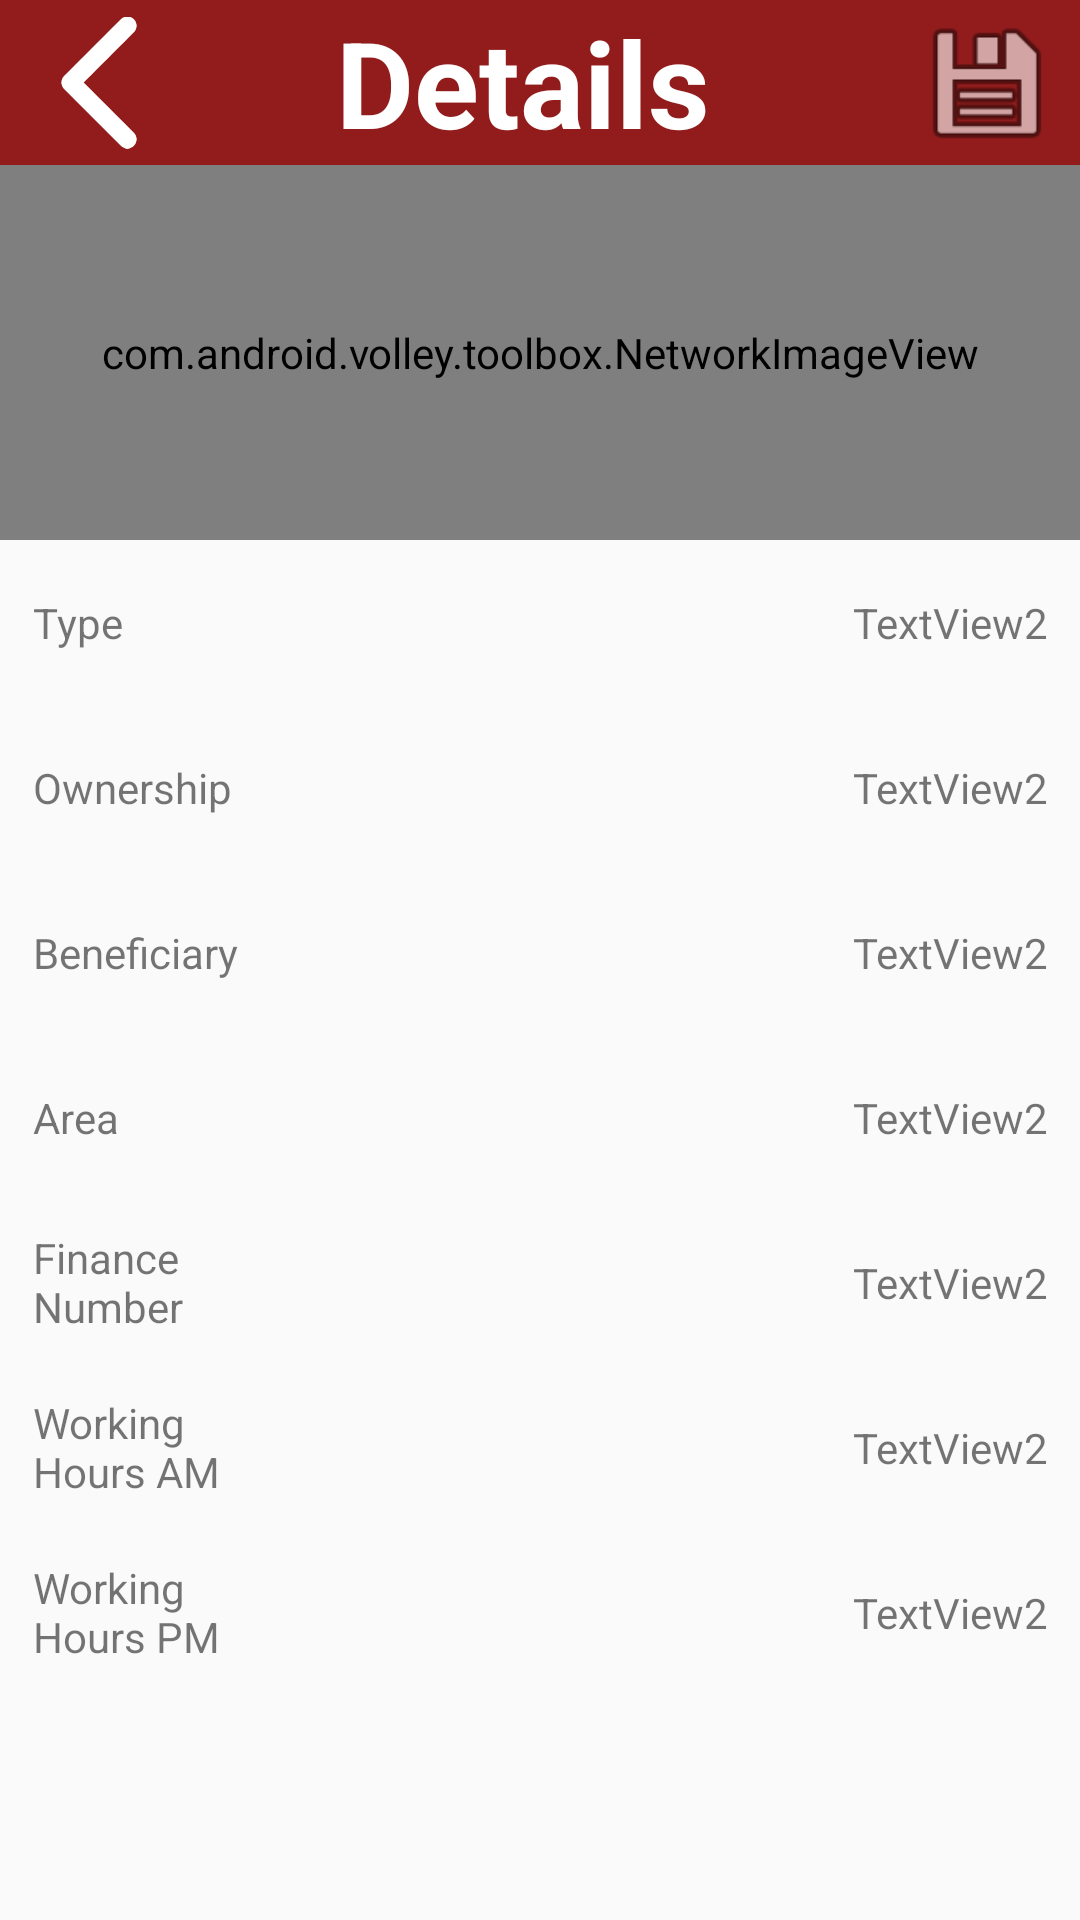

Icon bounding boxes for this 1080 x 1920 phone screenshot, format (x1, y1, x2, y2):
back arrow: (61, 17, 137, 149)
save: (933, 28, 1041, 138)
